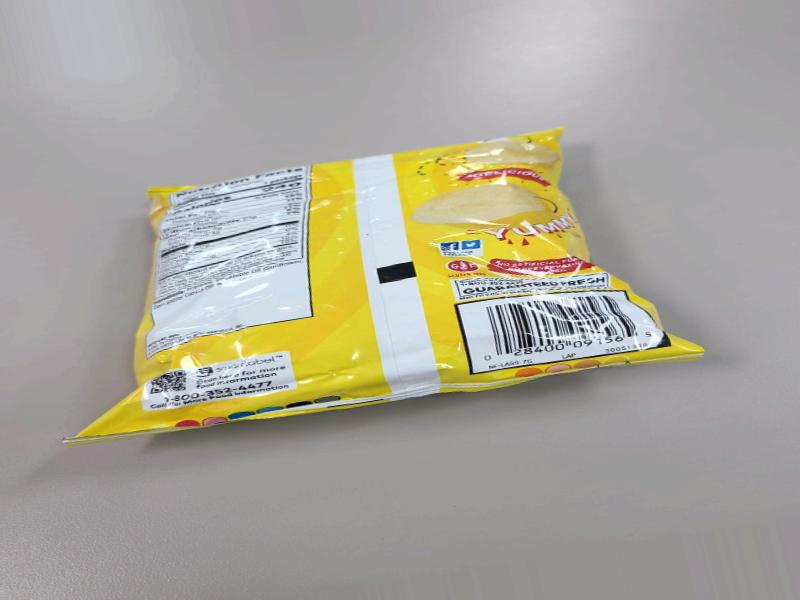lays: (107, 173, 759, 418)
